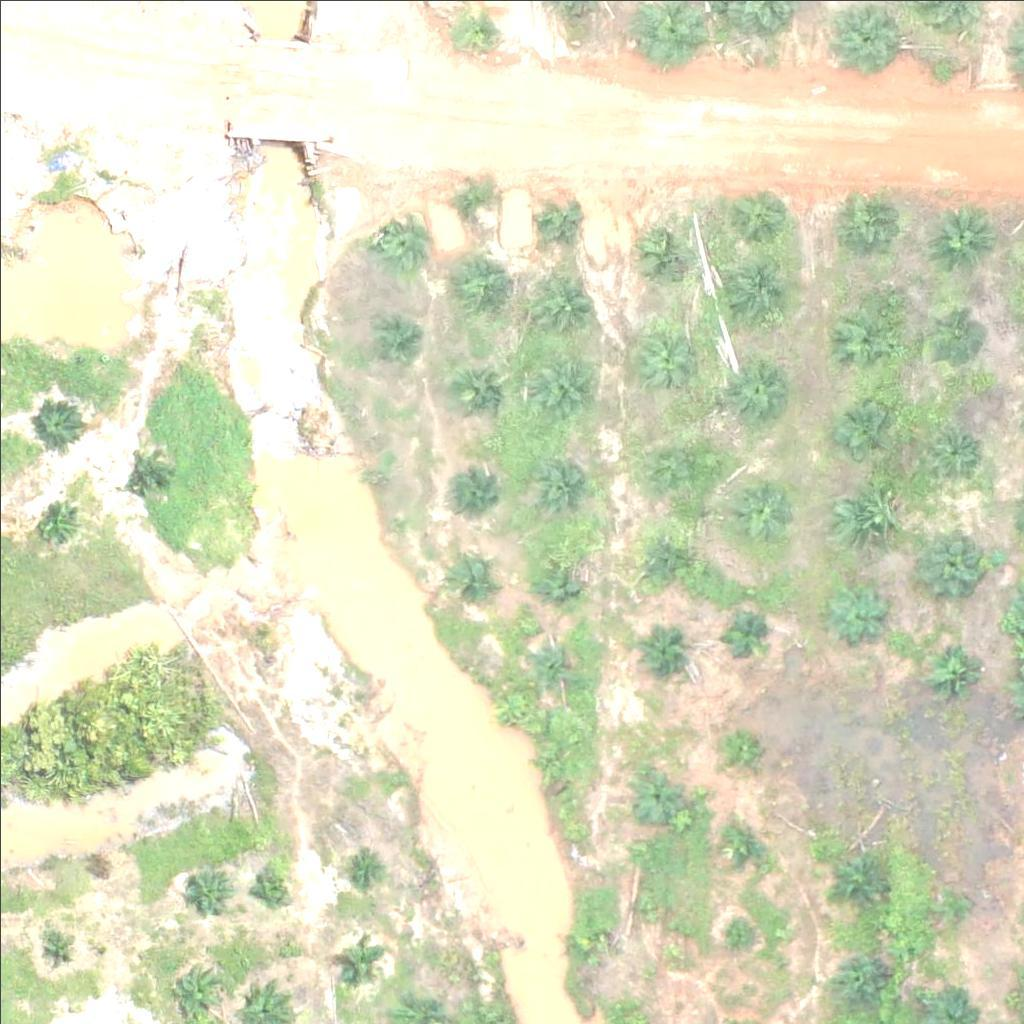Kelapa_Sawit: (646, 425, 709, 488), (531, 449, 594, 512), (923, 632, 986, 695), (919, 532, 982, 595), (932, 205, 995, 268), (533, 352, 596, 415), (836, 307, 899, 370), (838, 200, 901, 263), (922, 300, 985, 363), (726, 183, 789, 246), (637, 2, 700, 65), (446, 256, 509, 319), (532, 271, 595, 334), (166, 960, 229, 1023), (836, 393, 898, 456), (725, 478, 787, 541), (826, 580, 888, 643), (723, 261, 785, 324), (726, 357, 788, 420), (637, 319, 699, 382), (632, 221, 694, 284), (447, 361, 509, 424), (830, 480, 892, 543), (830, 954, 880, 1005), (831, 851, 881, 902), (532, 198, 582, 249), (446, 177, 496, 228), (720, 819, 770, 870), (932, 424, 982, 474), (443, 463, 493, 513), (636, 632, 686, 682), (718, 607, 768, 657), (529, 637, 579, 687), (630, 768, 680, 818), (533, 552, 583, 602), (447, 553, 497, 603), (34, 395, 84, 445), (375, 212, 425, 262), (365, 317, 415, 367), (453, 4, 503, 54), (31, 499, 81, 549), (122, 443, 172, 493), (639, 528, 689, 578), (181, 865, 231, 915), (533, 742, 571, 780), (721, 731, 759, 769), (343, 941, 381, 979), (342, 850, 380, 888), (255, 867, 293, 905), (629, 890, 667, 928), (37, 930, 74, 968), (566, 928, 603, 966), (932, 888, 969, 926), (720, 910, 757, 947)
